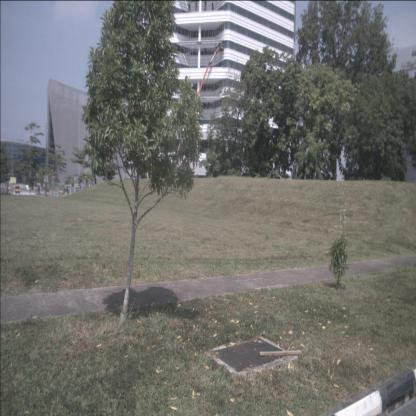vehicle-car: (15, 186, 20, 194)
